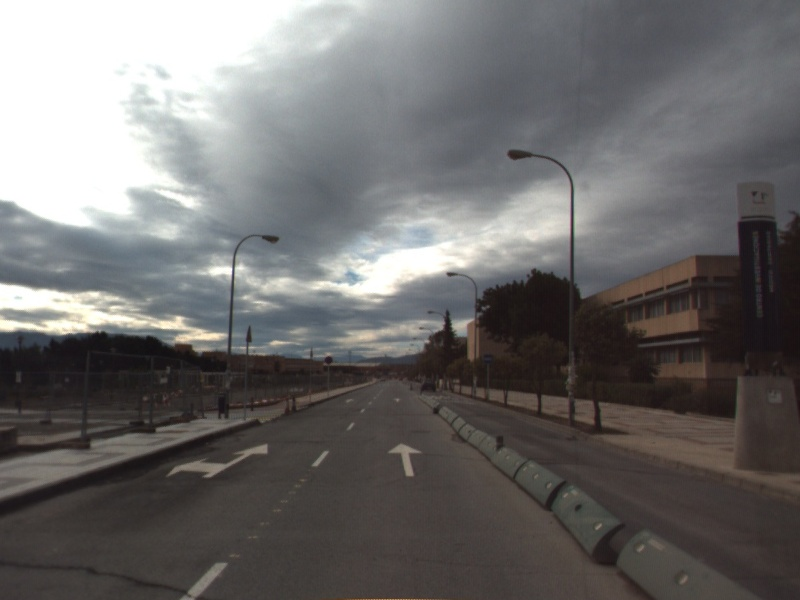STRAIGHT: (386, 440, 424, 479)
STRAIGHT_LEFT: (163, 441, 270, 480)
